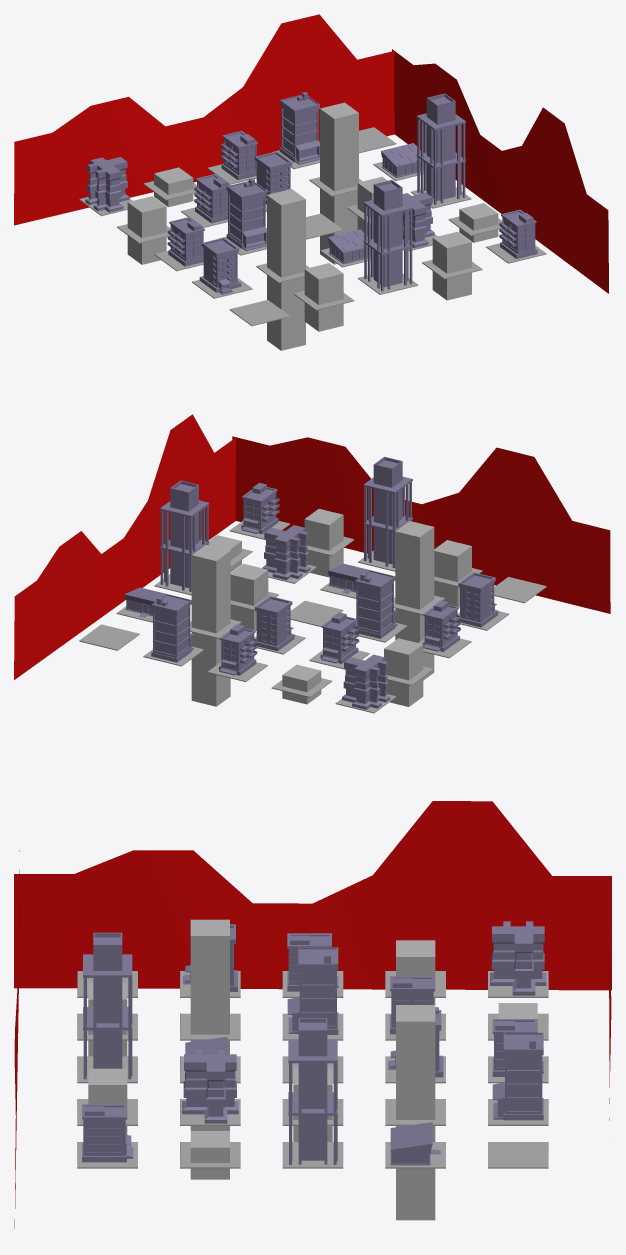
File: city.gltf
3 renders of one model, top to bottom at view 1: azimuth 30°, elevation 25°; view 2: azimuth 150°, elevation 25°; view 3: azimuth 270°, elevation 25°, orthographic. The views are drawn at different scales.
Visible parts, largest first — view 1: Plane 0 (×2), Cube.2 6, Cube.2 18, building2 2, building2 14, House_3.1 23, House_3.1 11, Cube 1, Cube.1 3, Cube.1 15, Cube 0 (×3), Building1.1 20 (+12 smaller); view 2: Plane 0 (×2), Cube.2 18, Cube.2 6, building2 14, building2 2, Cube 0 (×3), House_3.1 23, House_3.1 11, Building1.1 20, Building1.1 8, Cube.1 15, Cube.1 3 (+12 smaller); view 3: Plane 0 (×2), Cube 0 (×11), Cube.2 18, building2 14, building2 2, Cube.2 6, House_3.1 23, Building1.1 8, Building1.1 20, House_3.1 11, House 4, Shop 19 (+9 smaller).
Boxes of the visible parts, <box> form: Plane 0 (×2): <box>14,14,608,293</box>; Cube.2 6: <box>267,189,305,350</box>; Cube.2 18: <box>320,102,358,264</box>; building2 2: <box>363,179,412,291</box>; building2 14: <box>416,93,465,204</box>; House_3.1 23: <box>279,92,319,164</box>; House_3.1 11: <box>226,178,266,250</box>; Cube 1: <box>304,263,343,331</box>; Cube.1 3: <box>432,231,471,300</box>; Cube.1 15: <box>127,196,166,264</box>; Cube 0 (×3): <box>229,127,396,326</box>; Building1.1 20: <box>85,157,129,212</box>; Plane 0 (×2): <box>14,414,610,679</box>; Cube.2 18: <box>191,544,230,706</box>; Cube.2 6: <box>395,521,434,680</box>; building2 14: <box>160,480,209,591</box>; building2 2: <box>363,456,412,568</box>; Cube 0 (×3): <box>79,577,546,650</box>; House_3.1 23: <box>151,594,194,662</box>; House_3.1 11: <box>355,570,397,638</box>; Building1.1 20: <box>342,654,390,709</box>; Building1.1 8: <box>262,525,310,580</box>; Cube.1 15: <box>384,638,423,706</box>; Cube.1 3: <box>304,509,343,577</box>; Plane 0 (×2): <box>14,801,611,1228</box>; Cube 0 (×11): <box>77,971,548,1168</box>; Cube.2 18: <box>396,1005,435,1220</box>; building2 14: <box>288,1018,337,1164</box>; building2 2: <box>83,932,132,1079</box>; Cube.2 6: <box>190,919,229,1130</box>; House_3.1 23: <box>492,1032,543,1120</box>; Building1.1 8: <box>182,1049,238,1123</box>; Building1.1 20: <box>490,921,546,995</box>; House_3.1 11: <box>287,947,338,1034</box>; House 4: <box>82,1104,133,1162</box>; Shop 19: <box>390,1122,440,1165</box>.
Size of the model in its own units: 19747 by 8894 by 19747.
